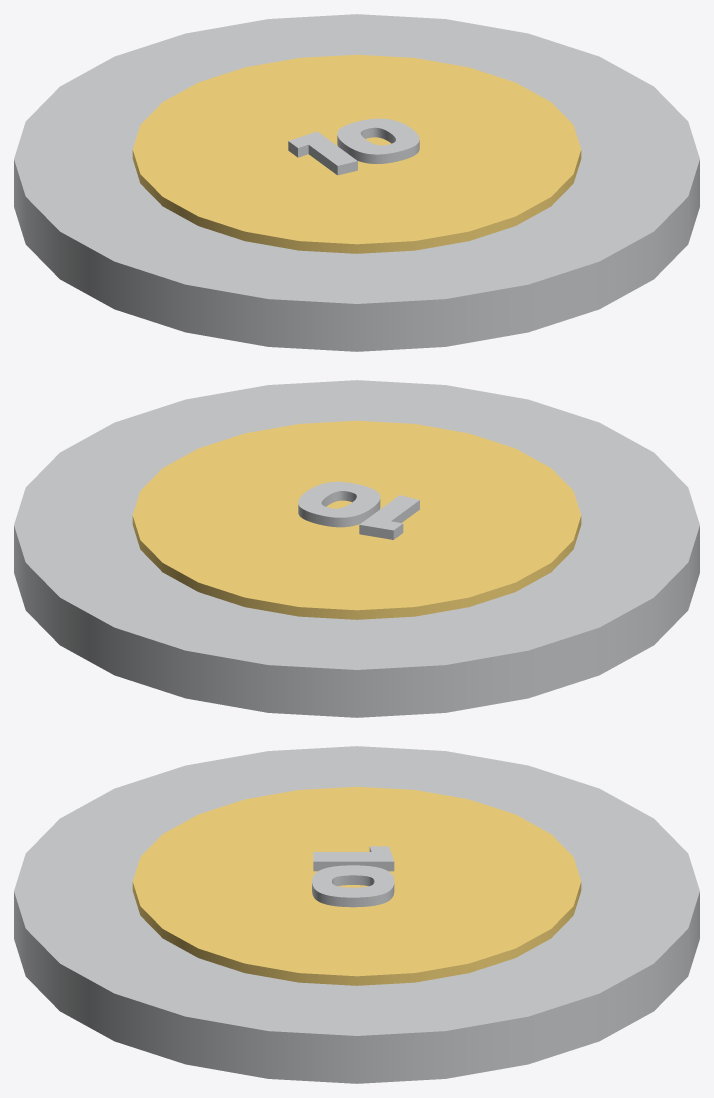
Rendered from SM_Coin10.fbx.
3 views of the same model, one above another, from view 1: azimuth 30°, elevation 25°; view 2: azimuth 150°, elevation 25°; view 3: azimuth 270°, elevation 25° (orthographic).
Visible parts, largest first — view 1: SM_Coin10; view 2: SM_Coin10; view 3: SM_Coin10.
Boxes of the visible parts, bbox=[...] form: SM_Coin10: bbox=[14, 14, 699, 351]; SM_Coin10: bbox=[14, 380, 699, 717]; SM_Coin10: bbox=[14, 746, 699, 1083].
Bounding box in the file's own units: 0.026 × 0.0028 × 0.026.
